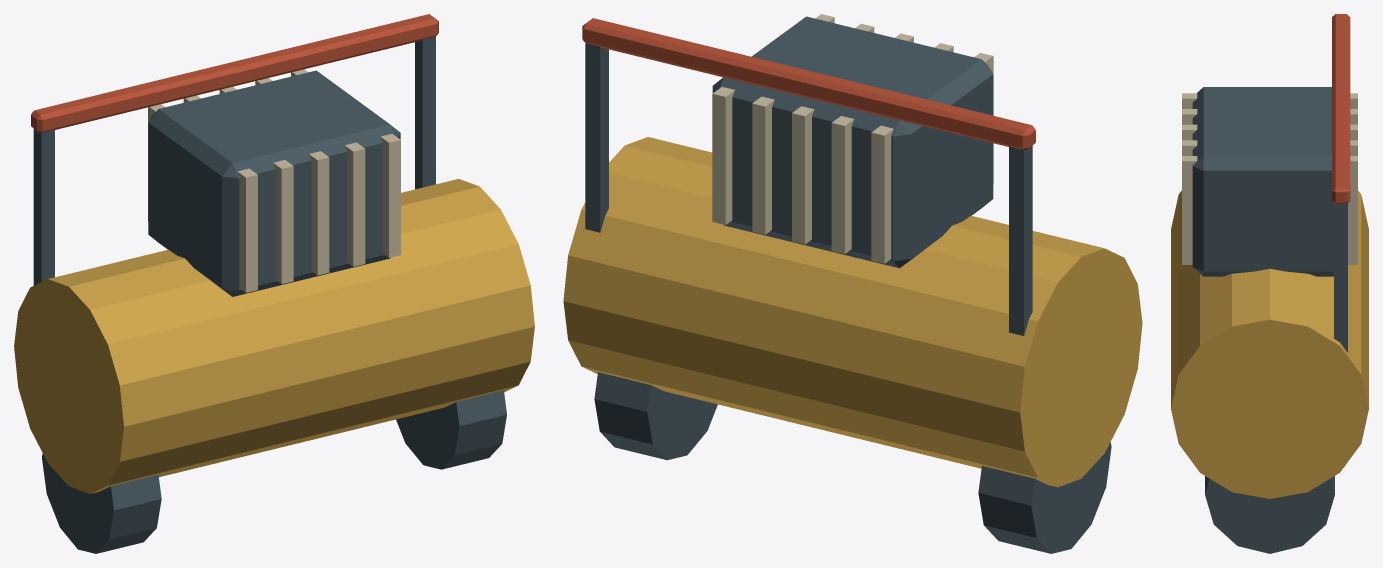
The model's file is air_compressor.glb.
3 renders of one model, left to right at view 1: azimuth 30°, elevation 25°; view 2: azimuth 150°, elevation 25°; view 3: azimuth 270°, elevation 25°, orthographic. The views are drawn at different scales.
Visible parts, largest first — view 1: air_compressor; view 2: air_compressor; view 3: air_compressor.
Boxes of the visible parts, left/top/right/bottom form: air_compressor: left=14, top=14, right=534, bottom=553; air_compressor: left=563, top=14, right=1142, bottom=553; air_compressor: left=1171, top=14, right=1368, bottom=553.
Size of the model in its own units: 1.38 by 1.31 by 0.64.
